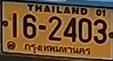letters: (21, 13, 38, 40), (47, 15, 63, 42), (77, 17, 93, 44), (93, 18, 108, 45), (63, 16, 77, 44), (10, 11, 20, 39)
province: (24, 43, 92, 56)
